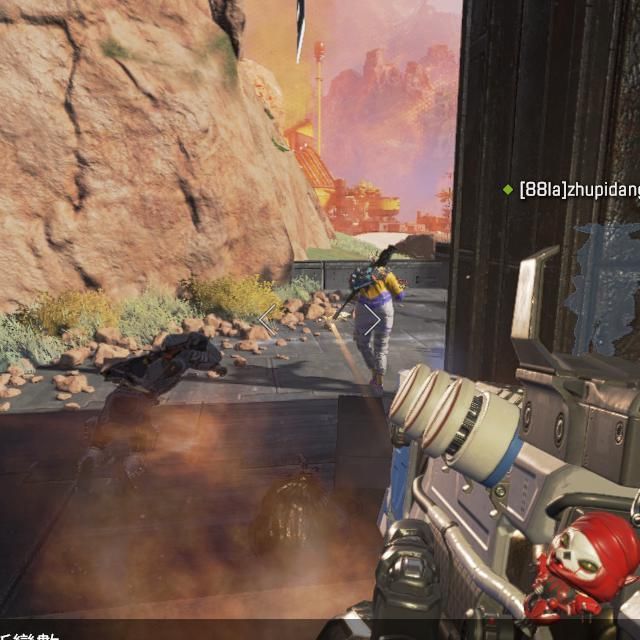avatar: (348, 254, 407, 393)
